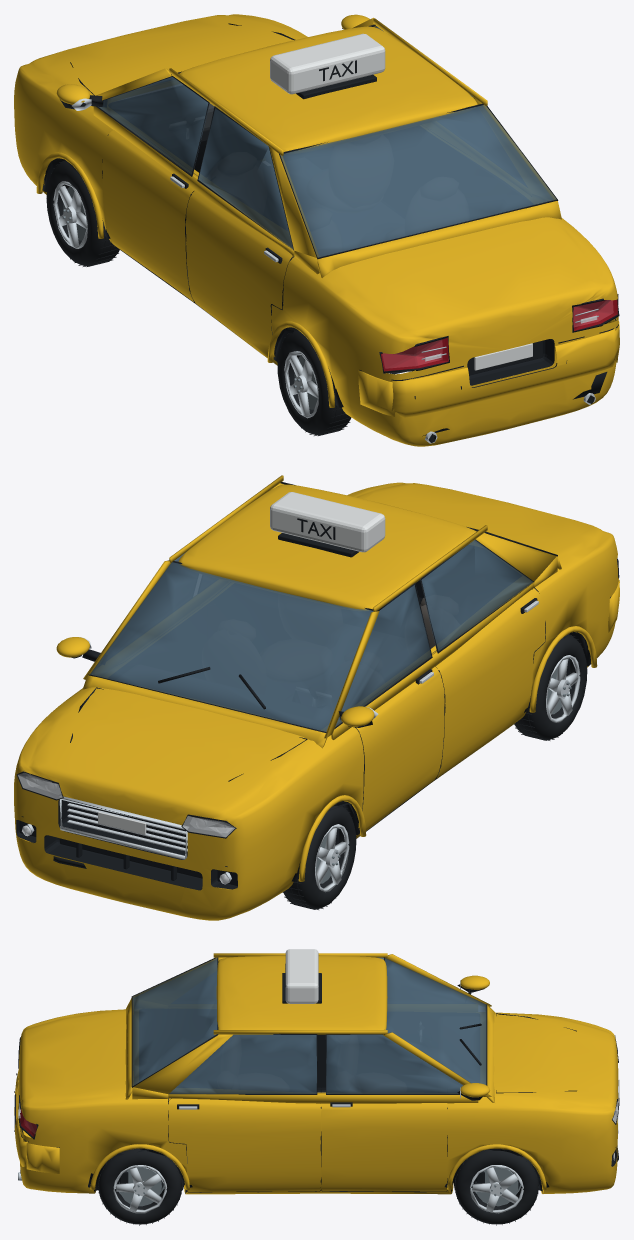
File: car_taxi.glb
The picture shows the model from 3 angles, top to bottom: view 1: azimuth 30°, elevation 25°; view 2: azimuth 150°, elevation 25°; view 3: azimuth 270°, elevation 25°; orthographic projection. The views are drawn at different scales.
Visible parts, largest first — view 1: Original city_taxi fourteen-section body shell, Front door transparent glass, Aerodynamic mirror painted cap, Separate closed door panel, Aerodynamic mirror lower housing, Continuous circumferential tread rib, Front license plate, Cast swept alloy spoke, Flush corner wrapping ruby lamp lens; view 2: Original city_taxi fourteen-section body shell, Front door transparent glass, Aerodynamic mirror painted cap, Separate closed door panel, Aerodynamic mirror lower housing, Cast swept alloy spoke, Continuous circumferential tread rib, Front license plate, Clear reversing lens insert; view 3: Original city_taxi fourteen-section body shell, Front door transparent glass, Aerodynamic mirror painted cap, Continuous circumferential tread rib, Aerodynamic mirror lower housing, Cast swept alloy spoke, Front license plate, Deep wheel barrel inner lip.
Part boxes in pixels (left/top/right/bottom): Original city_taxi fourteen-section body shell: left=14, top=14, right=618, bottom=446; Front door transparent glass: left=98, top=26, right=556, bottom=257; Aerodynamic mirror painted cap: left=36, top=14, right=619, bottom=417; Separate closed door panel: left=102, top=129, right=198, bottom=301; Aerodynamic mirror lower housing: left=42, top=23, right=619, bottom=442; Continuous circumferential tread rib: left=46, top=160, right=351, bottom=435; Front license plate: left=270, top=33, right=532, bottom=370; Cast swept alloy spoke: left=53, top=98, right=612, bottom=443; Flush corner wrapping ruby lamp lens: left=381, top=300, right=617, bottom=371; Original city_taxi fourteen-section body shell: left=14, top=482, right=618, bottom=920; Front door transparent glass: left=90, top=484, right=533, bottom=731; Aerodynamic mirror painted cap: left=56, top=475, right=619, bottom=881; Separate closed door panel: left=355, top=667, right=444, bottom=838; Aerodynamic mirror lower housing: left=16, top=481, right=619, bottom=887; Cast swept alloy spoke: left=23, top=600, right=580, bottom=892; Continuous circumferential tread rib: left=282, top=634, right=587, bottom=909; Front license plate: left=98, top=492, right=385, bottom=834; Clear reversing lens insert: left=18, top=773, right=234, bottom=884; Original city_taxi fourteen-section body shell: left=18, top=1009, right=618, bottom=1194; Front door transparent glass: left=132, top=957, right=486, bottom=1094; Aerodynamic mirror painted cap: left=14, top=953, right=546, bottom=1190; Continuous circumferential tread rib: left=98, top=1148, right=538, bottom=1225; Aerodynamic mirror lower housing: left=14, top=957, right=618, bottom=1192; Cast swept alloy spoke: left=18, top=980, right=618, bottom=1213; Front license plate: left=285, top=949, right=619, bottom=1105; Deep wheel barrel inner lip: left=116, top=1167, right=521, bottom=1206.
Bounding box in the file's own units: 2.14 × 1.8 × 4.68.
